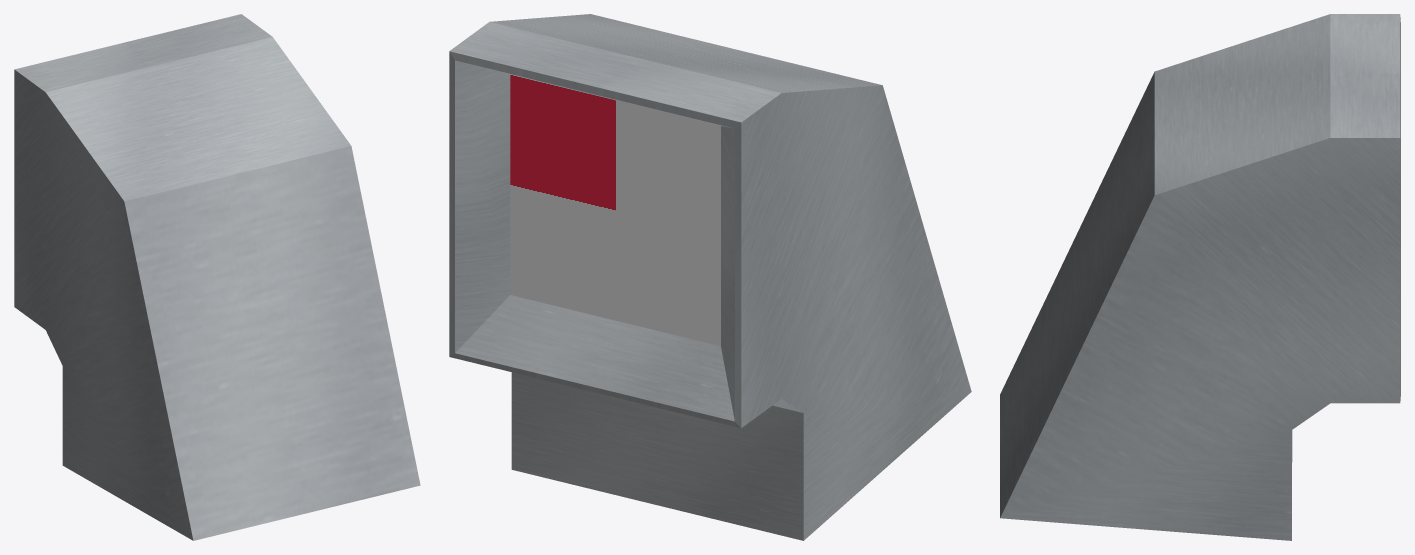
3 views of the same model, side by side, from view 1: azimuth 30°, elevation 25°; view 2: azimuth 150°, elevation 25°; view 3: azimuth 270°, elevation 25° (orthographic). The views are drawn at different scales.
Parts seen in each view (by area): view 1: Cube; view 2: Cube; view 3: Cube.
Boxes of the visible parts, <box> form: Cube: <box>14,14,420,540</box>; Cube: <box>449,14,971,540</box>; Cube: <box>1000,14,1400,540</box>.
Bounding box in the file's own units: 2 × 3.04 × 2.73.
2 materials, 2 textured.
